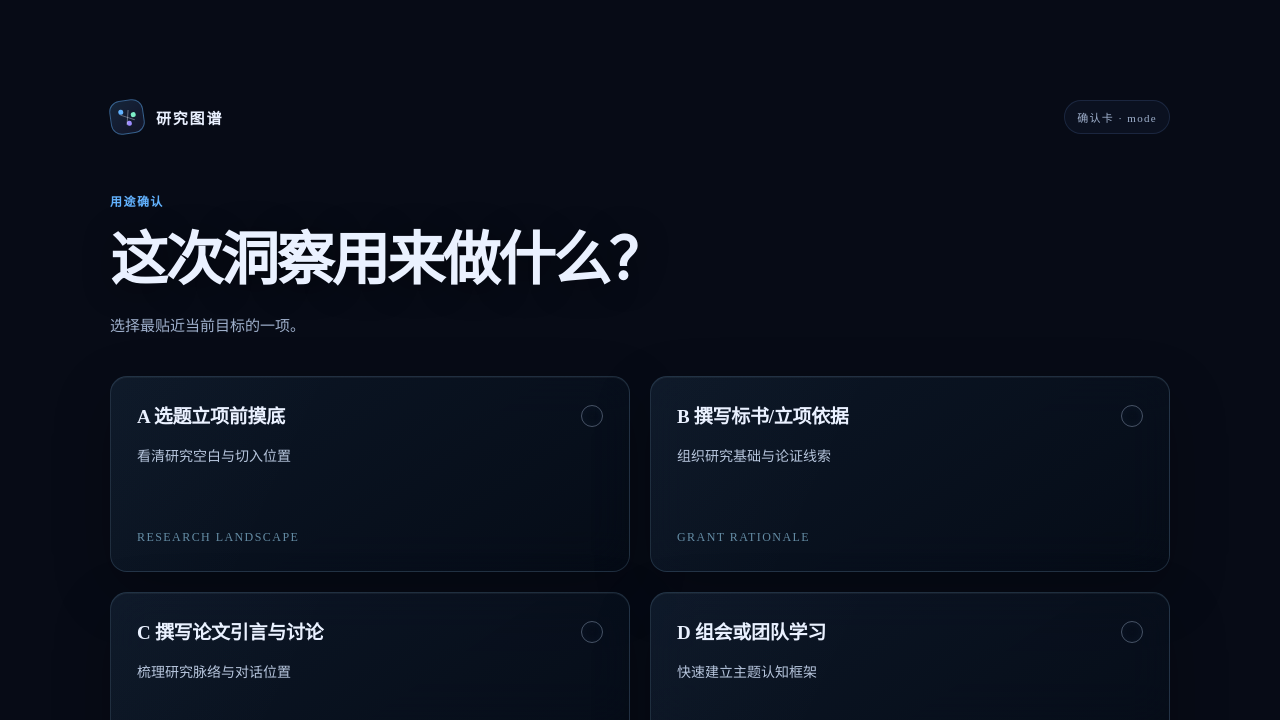
it: TaskWizard › submits the selected Chinese option and keeps multi-select explicit
Click the button "A 选题立项前摸底 看清研究空白与切入位置 Research landscape". click: (211, 417)
box: [110,376,630,572]
(page scrolled)
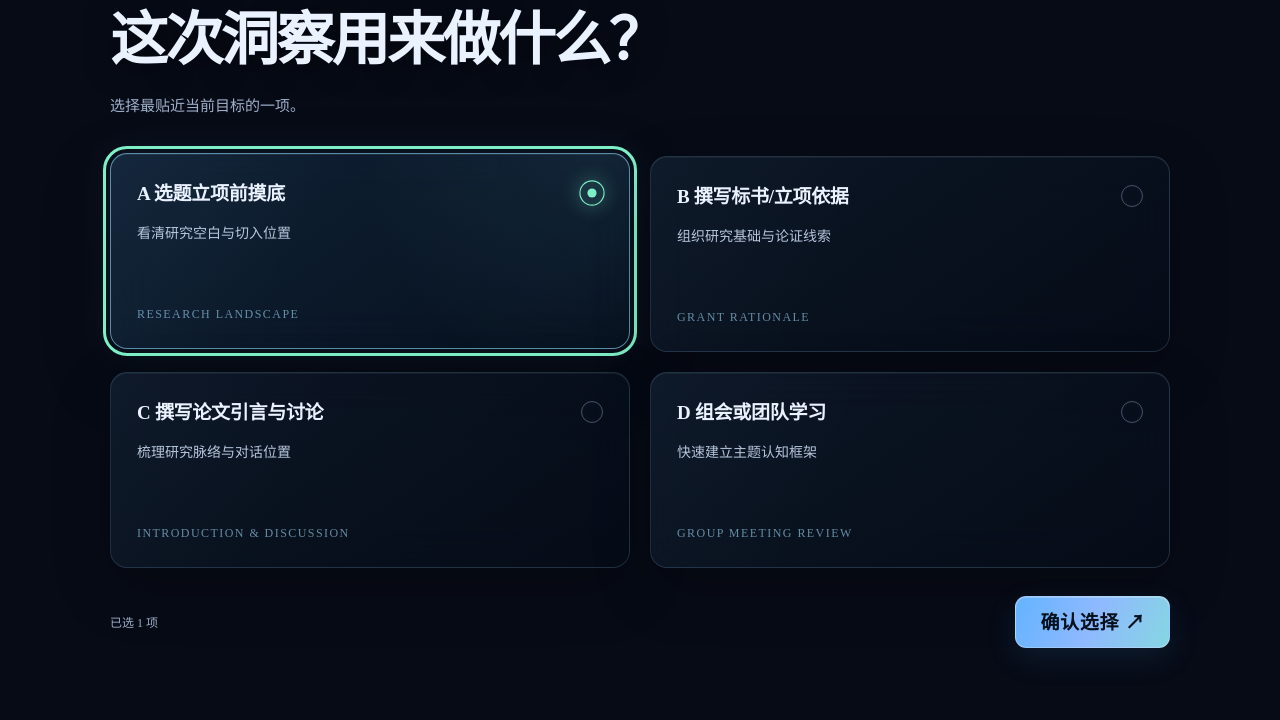
Click the button "确认选择 ↗". click: (1093, 622)
box: [1015,596,1170,648]
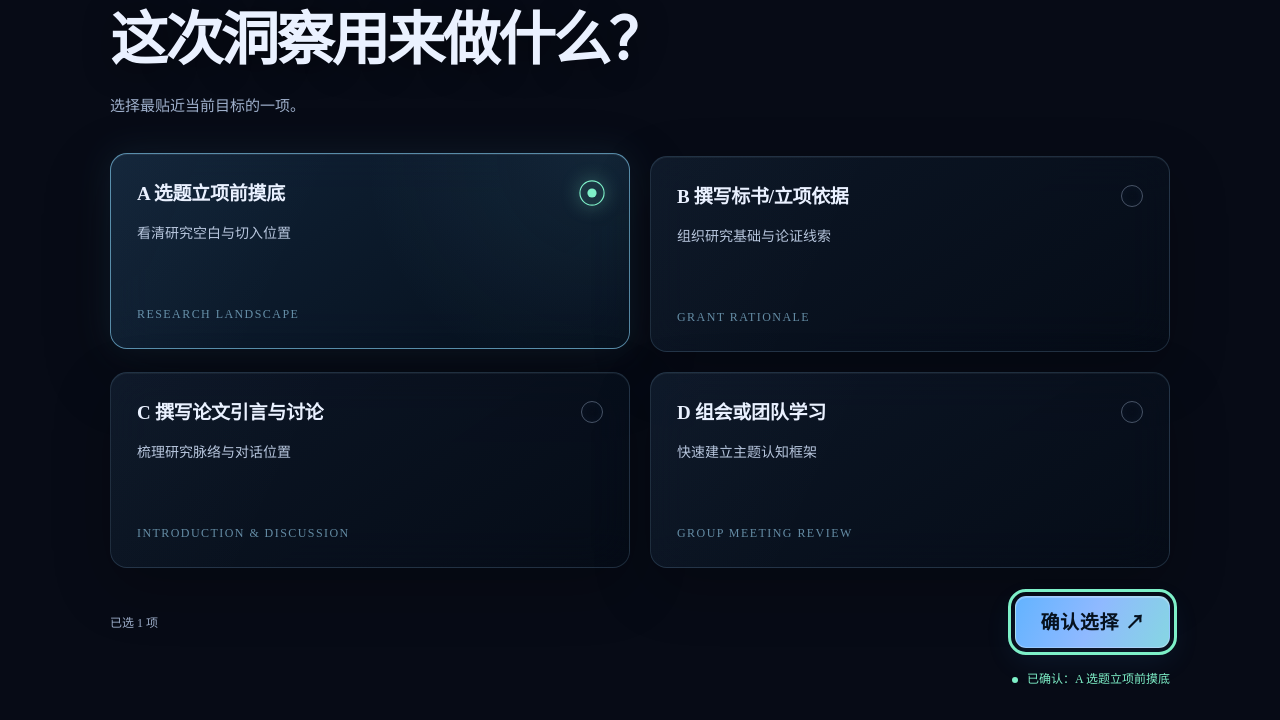
Result: the message reads "已确认：A 选题立项前摸底" at [1012,670,1170,689]
